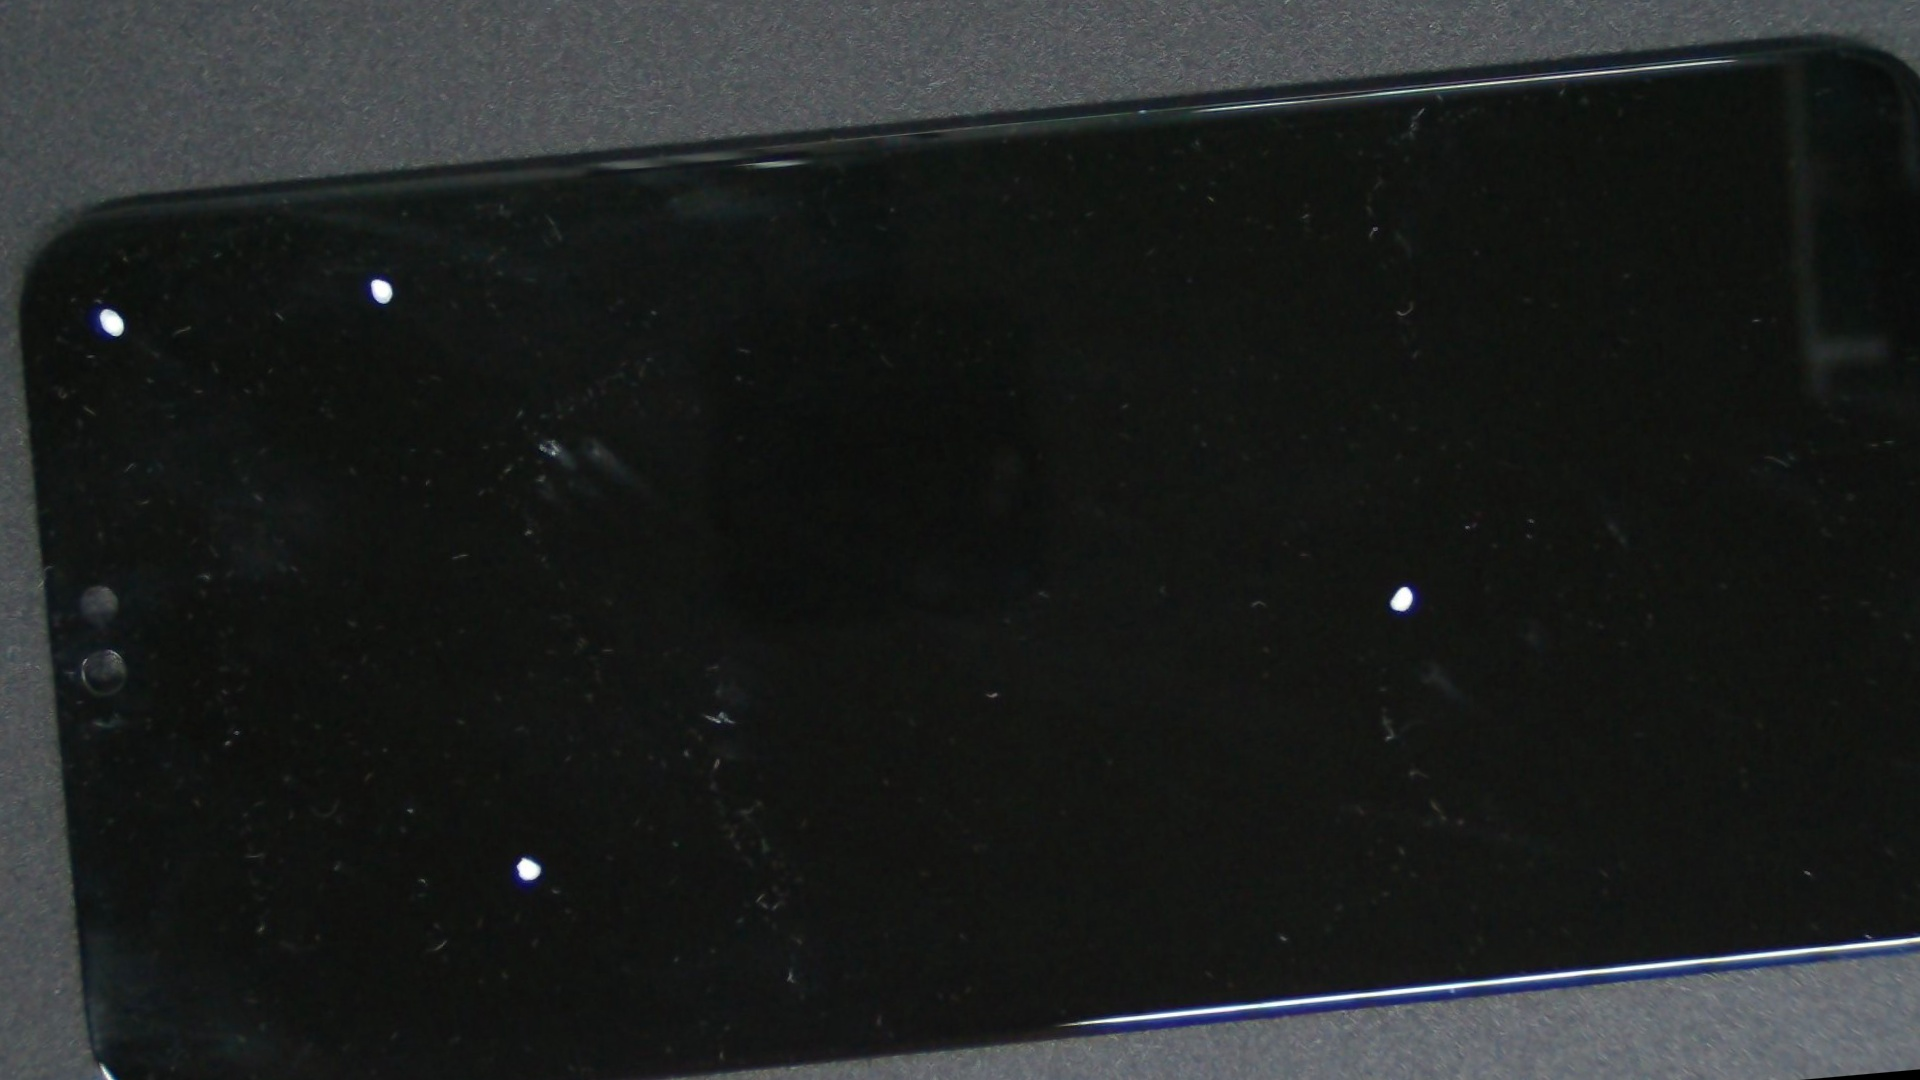oil: (628, 166, 1920, 1010), (189, 376, 852, 1080), (199, 162, 893, 715), (112, 95, 634, 459), (0, 135, 231, 479)
